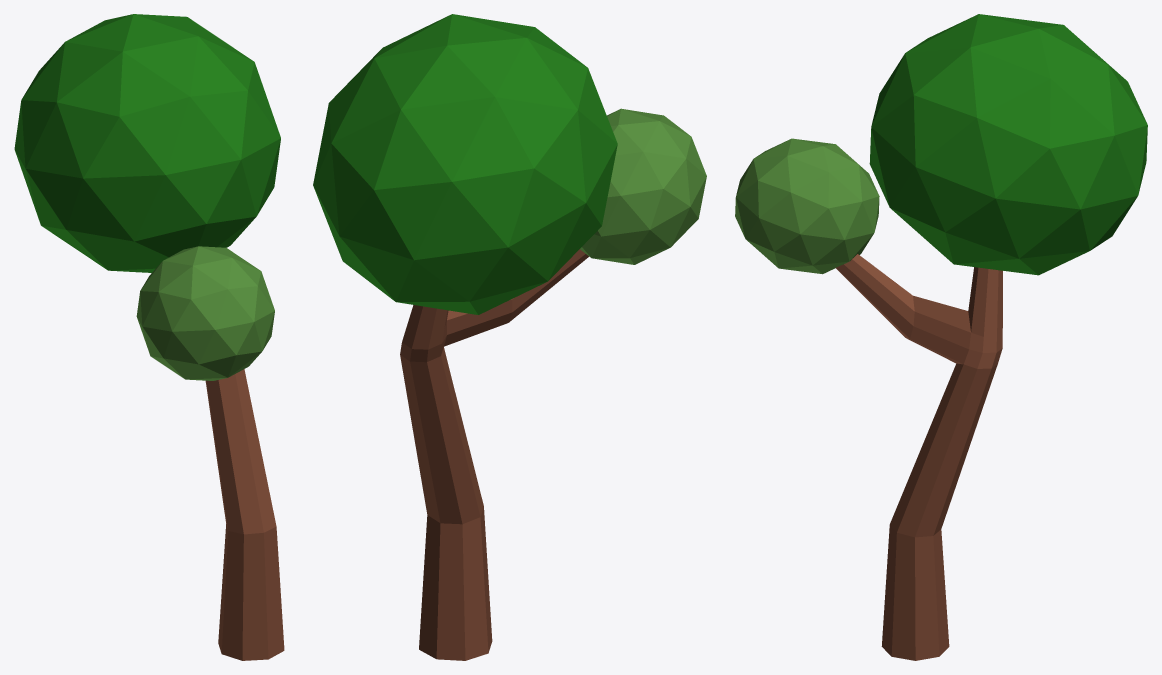
The model's file is Tree_02_summer_vc.fbx.
3 views of the same model, side by side, from view 1: azimuth 30°, elevation 25°; view 2: azimuth 150°, elevation 25°; view 3: azimuth 270°, elevation 25° (orthographic). The views are drawn at different scales.
Parts seen in each view (by area): view 1: Tree_02_summer_vc; view 2: Tree_02_summer_vc; view 3: Tree_02_summer_vc.
Boxes of the visible parts, x1,y1,x2,y2 form: Tree_02_summer_vc: (14, 14, 284, 660); Tree_02_summer_vc: (313, 14, 706, 660); Tree_02_summer_vc: (735, 14, 1147, 660).
Size of the model in its own units: 1.86 by 4.61 by 2.92.
